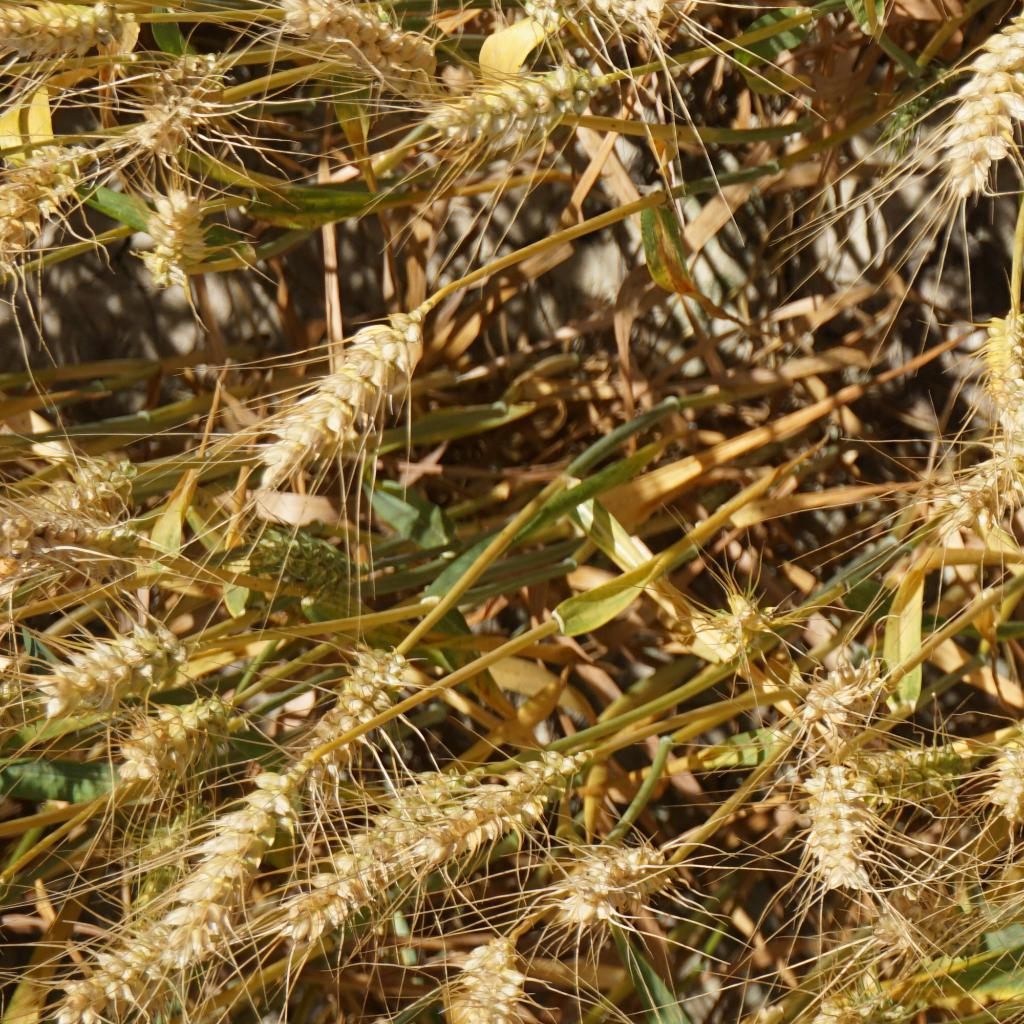0-0: (255, 761, 503, 960), (151, 755, 323, 976), (226, 310, 427, 489), (384, 741, 613, 864), (422, 43, 595, 162), (922, 11, 1024, 203), (295, 630, 424, 762), (267, 0, 434, 95), (877, 49, 990, 166), (46, 920, 172, 1024), (34, 620, 181, 709), (0, 143, 104, 264), (787, 758, 879, 888), (783, 652, 903, 746), (229, 512, 365, 594), (556, 839, 671, 930), (869, 887, 994, 968), (439, 930, 534, 1024), (11, 451, 148, 516), (99, 696, 223, 762), (965, 299, 1024, 431), (0, 513, 146, 566), (123, 82, 230, 154), (130, 186, 212, 278), (946, 444, 1024, 540), (0, 0, 120, 59), (701, 579, 780, 664), (880, 735, 963, 806), (816, 973, 929, 1024), (120, 802, 188, 884), (983, 699, 1024, 822), (577, 0, 677, 35), (148, 45, 225, 87), (493, 0, 572, 25)
